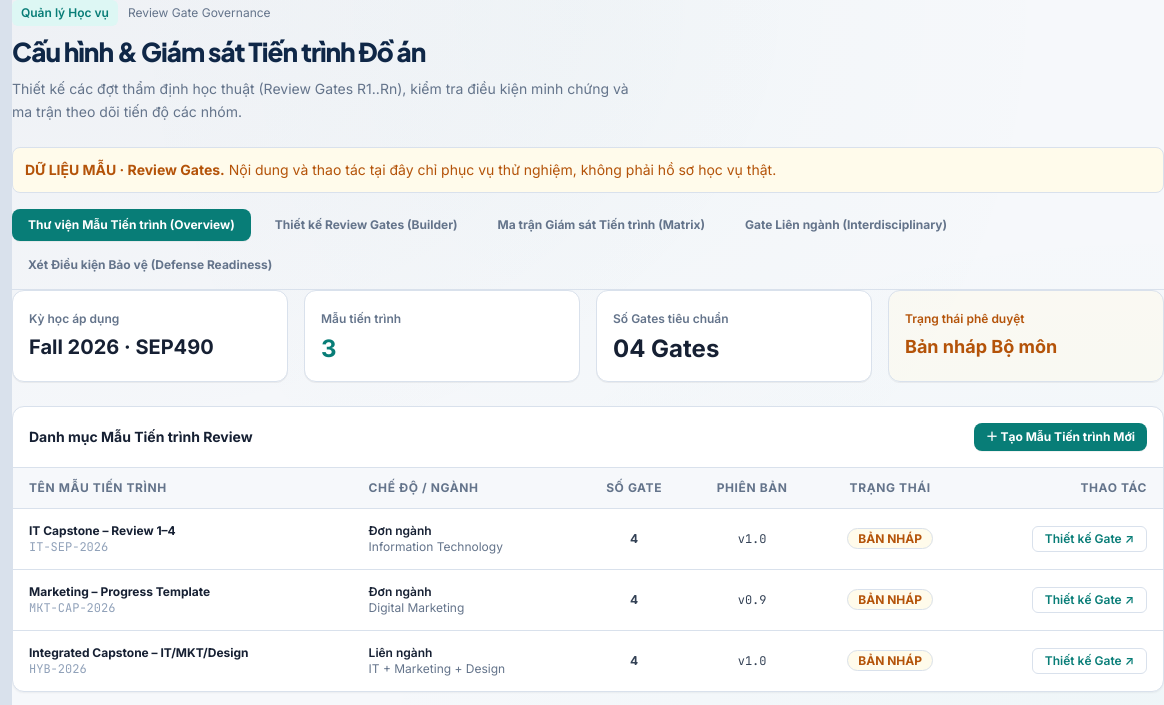
it: ReviewGateGovernancePage (Academic Review Gates Vertical Slice) › evaluates defense readiness conditions and shows NOT READY when gates are incomplete
Check: the text "IT Capstone – Review 1–4" is shown, box top-left (29, 523), bottom-right (176, 538)
Click the button "Xét Điều kiện Bảo vệ (Defense Readiness)" at [150, 265], box top-left (12, 249), bottom-right (288, 281)
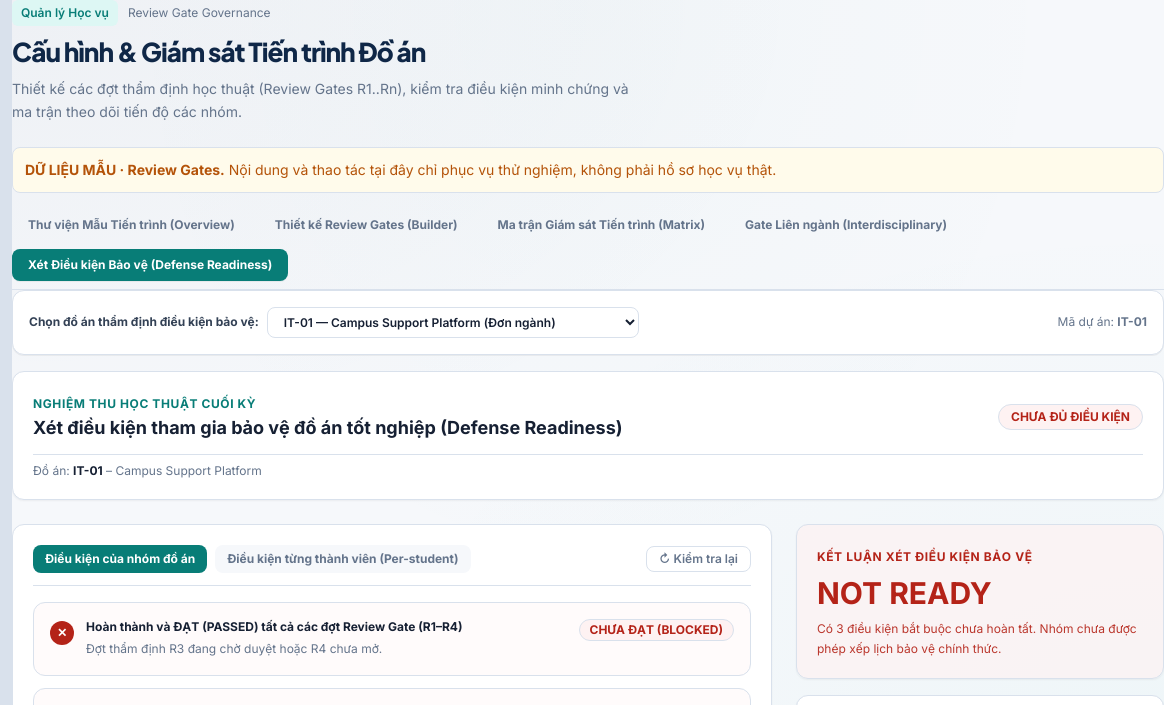
Check: the heading "Xét điều kiện tham gia bảo vệ đồ án tốt nghiệp (Defense Readiness)" is shown, box top-left (33, 414), bottom-right (622, 442)
Check: the text "CHƯA ĐỦ ĐIỀU KIỆN" is shown, box top-left (998, 404), bottom-right (1143, 430)
Check: the text "NOT READY" is shown, box top-left (817, 576), bottom-right (992, 612)
